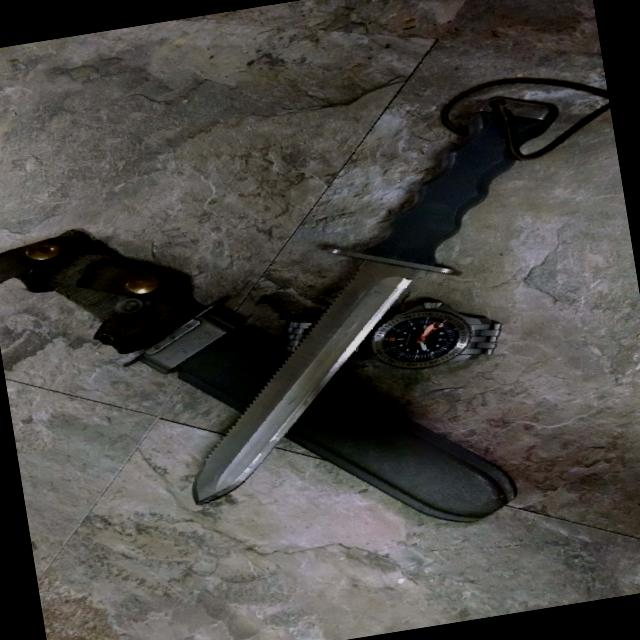knife: (148, 268, 424, 518)
